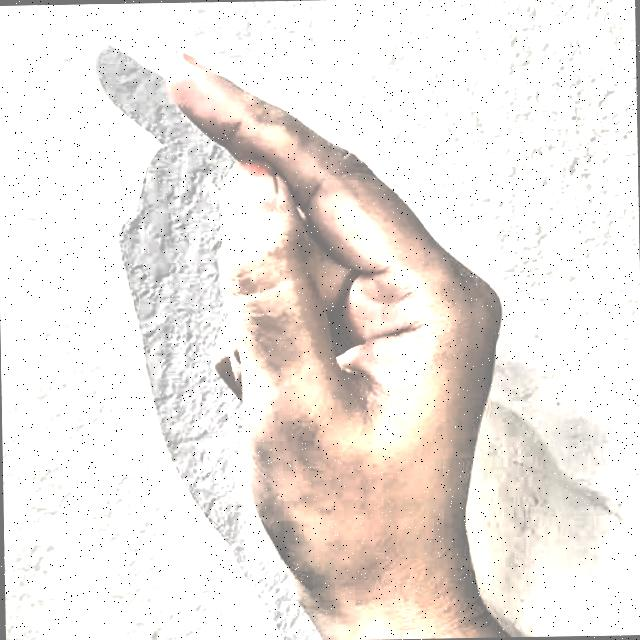Tha: (127, 26, 540, 640)
